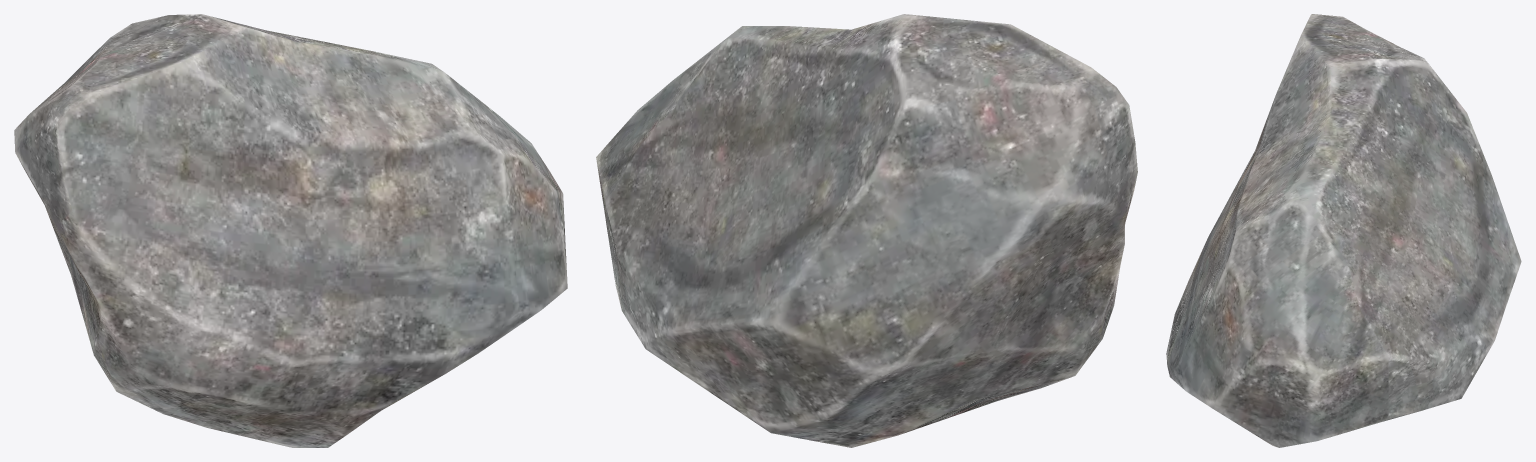
The picture shows the model from 3 angles, left to right: view 1: azimuth 30°, elevation 25°; view 2: azimuth 150°, elevation 25°; view 3: azimuth 270°, elevation 25°; orthographic projection. The views are drawn at different scales.
Visible parts, largest first — view 1: SM_RuneEssence_Fragment_01_LOD0; view 2: SM_RuneEssence_Fragment_01_LOD0; view 3: SM_RuneEssence_Fragment_01_LOD0.
Boxes of the visible parts, left/top/right/bottom form: SM_RuneEssence_Fragment_01_LOD0: left=14, top=14, right=567, bottom=447; SM_RuneEssence_Fragment_01_LOD0: left=596, top=14, right=1137, bottom=447; SM_RuneEssence_Fragment_01_LOD0: left=1166, top=14, right=1521, bottom=447.
Bounding box in the file's own units: 0.2272 × 0.1765 × 0.1627.
1 material, 1 textured.
